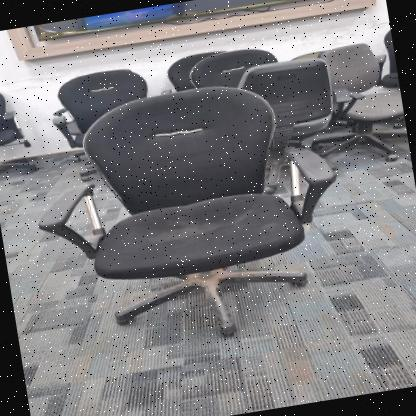chair: (20, 64, 356, 364)
